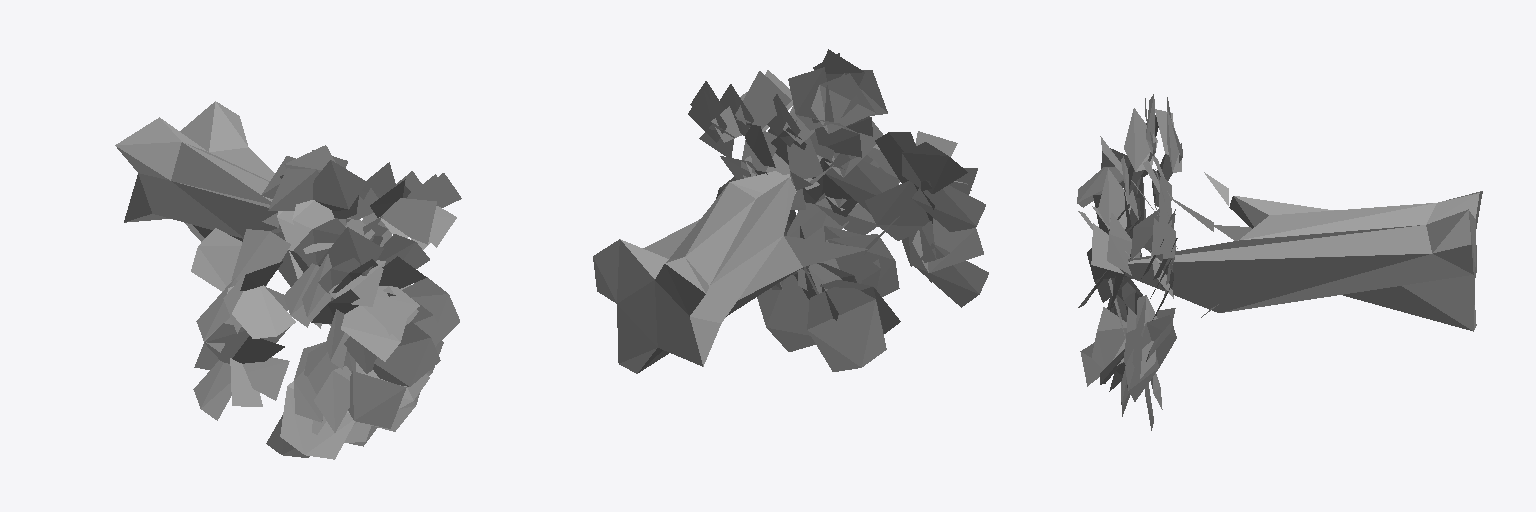
File: bigTree.obj
3 views of the same model, side by side, from view 1: azimuth 30°, elevation 25°; view 2: azimuth 150°, elevation 25°; view 3: azimuth 270°, elevation 25° (orthographic).
Visible parts, largest first — view 1: bigTree; view 2: bigTree; view 3: bigTree.
Boxes of the visible parts, box(x1,y1,x2,y2) form: bigTree: box(115, 101, 461, 459); bigTree: box(593, 49, 988, 373); bigTree: box(1077, 94, 1482, 430).
Bounding box in the file's own units: 16.79 × 17.81 × 20.76.